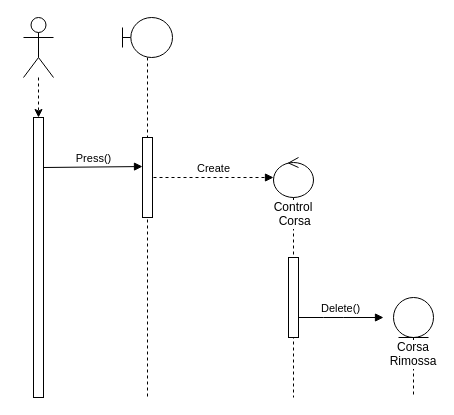
Some shapes in this 454 by 415 pixel diagram are drawn without their labels. Here are the shapes that lost their labels. From the top down, the box of each, then its label:
(22, 16, 54, 78): Gestore
(122, 16, 172, 398): Button Cancella Corsa
